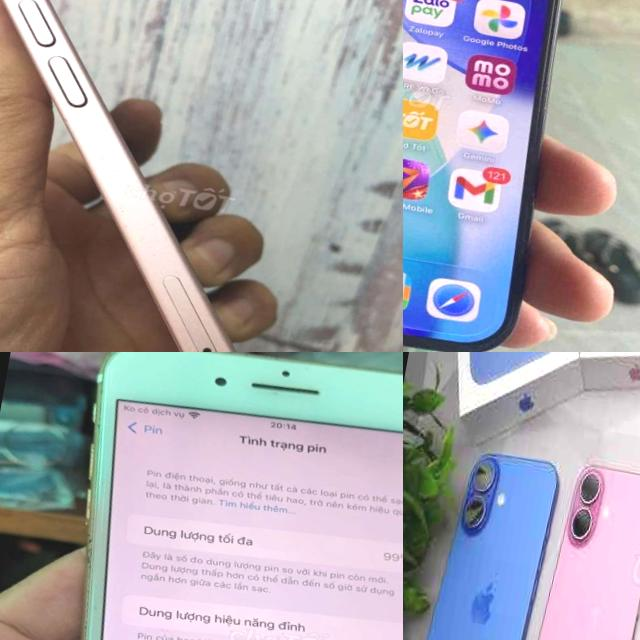gen_15: (0, 0, 403, 352), (403, 0, 609, 352)
gen_16: (502, 449, 640, 640)
gen_7_8: (0, 352, 403, 640)
